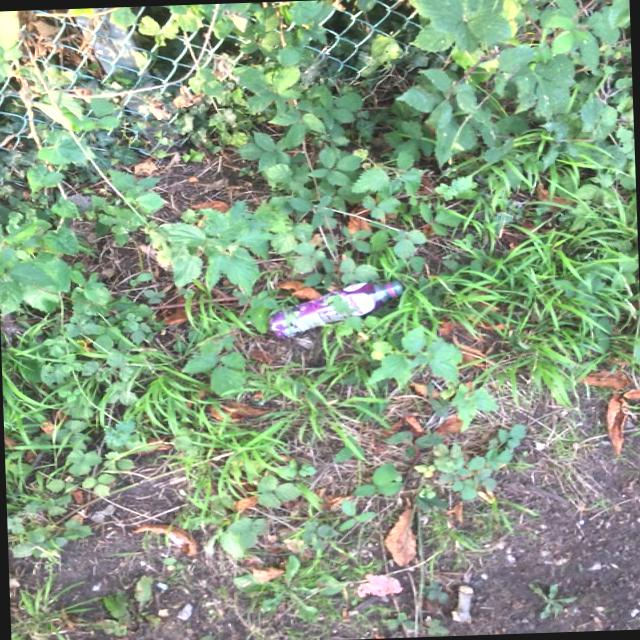Recycle: (259, 277, 406, 336)
